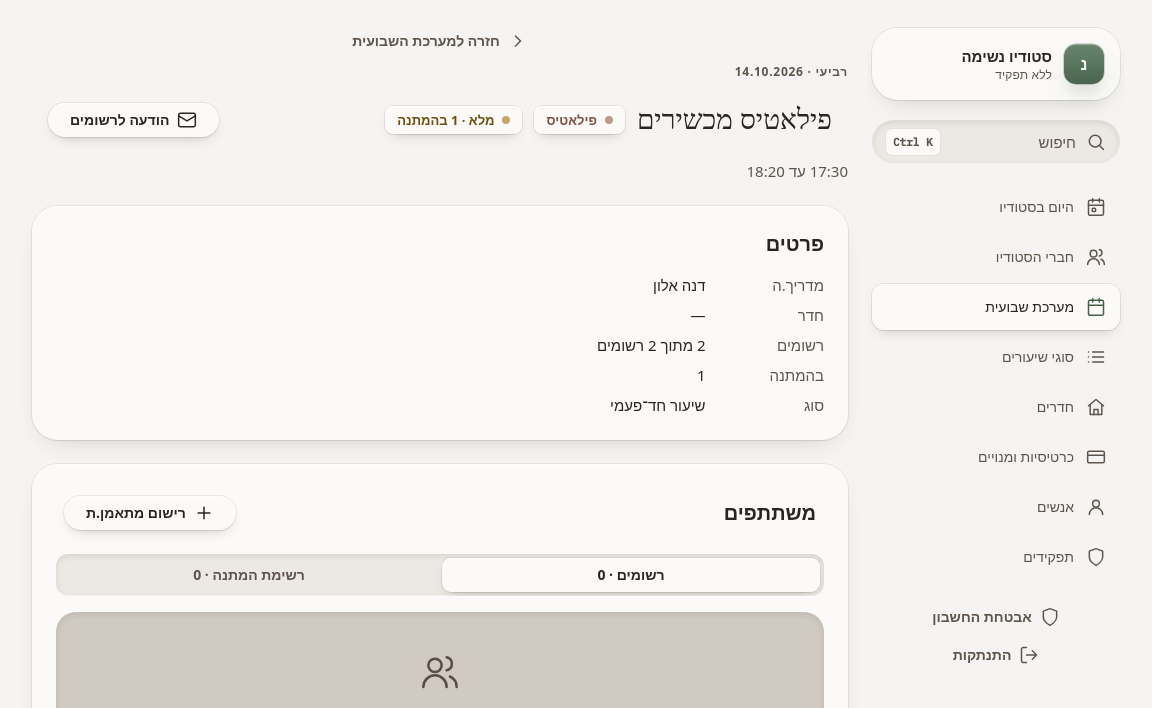
Scenario: the roster › says when the walk-in search fails, instead of no one found
Click the button "רישום מתאמן.ת" at (150, 513), box x1=64 y1=496 x2=236 y2=530
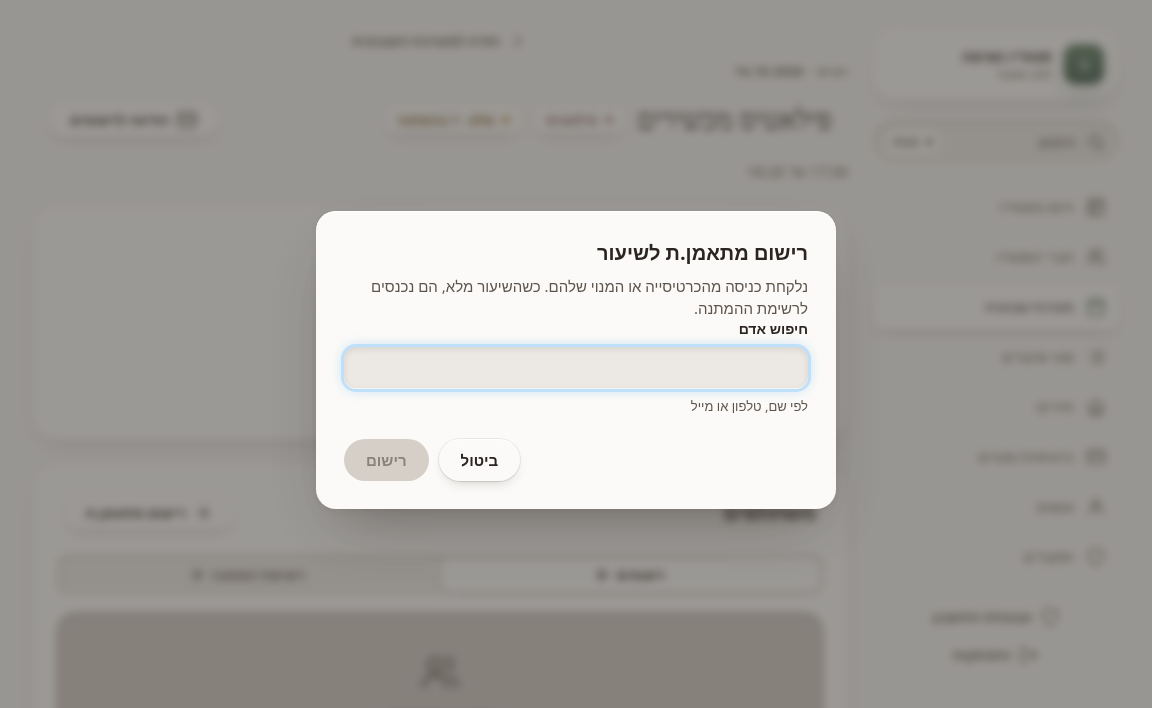
Type "רונ" into the search field labelled "חיפוש אדם" at (576, 368), box x1=344 y1=347 x2=808 y2=389
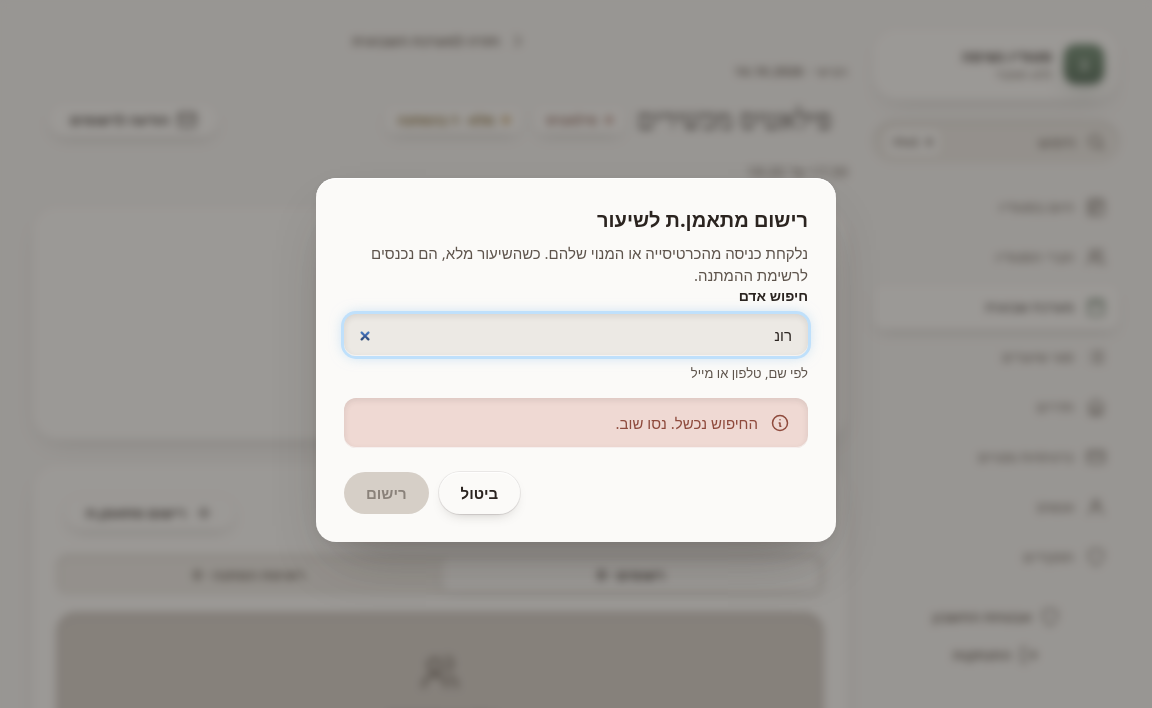
Now the text "החיפוש נכשל. נסו שוב." is shown, box x1=616 y1=412 x2=758 y2=434
